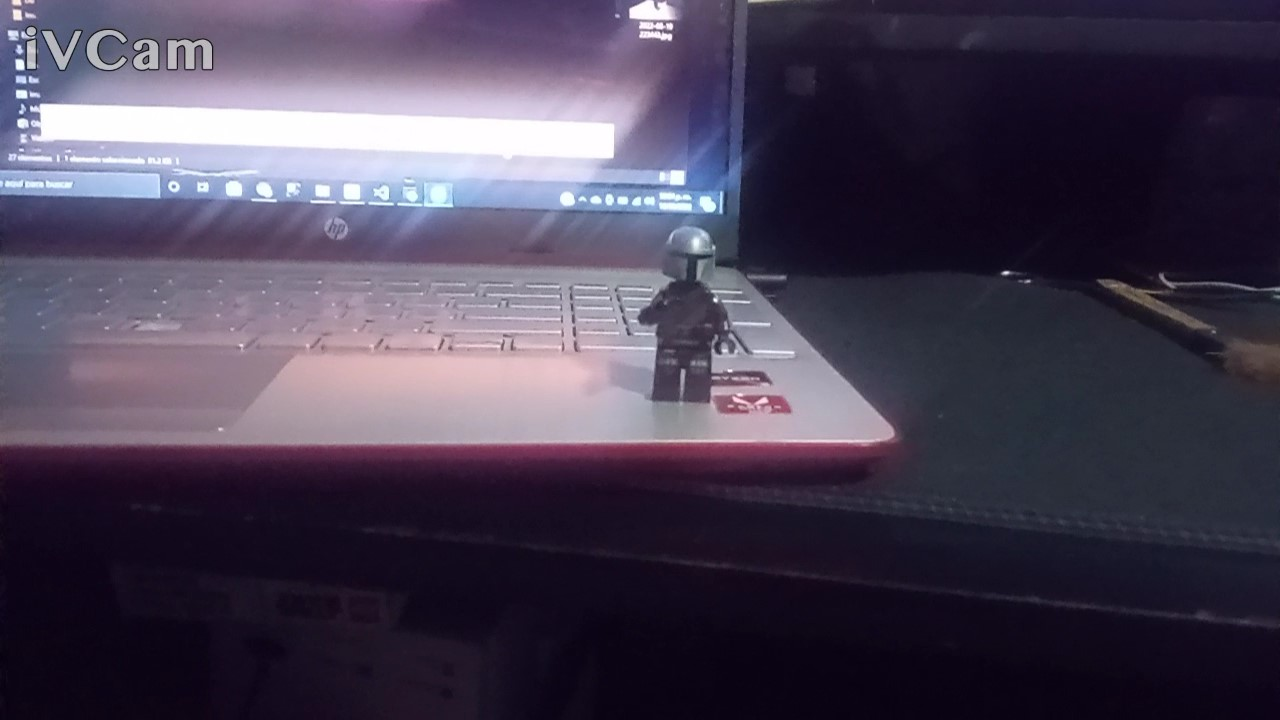mandalorian: (634, 211, 754, 405)
